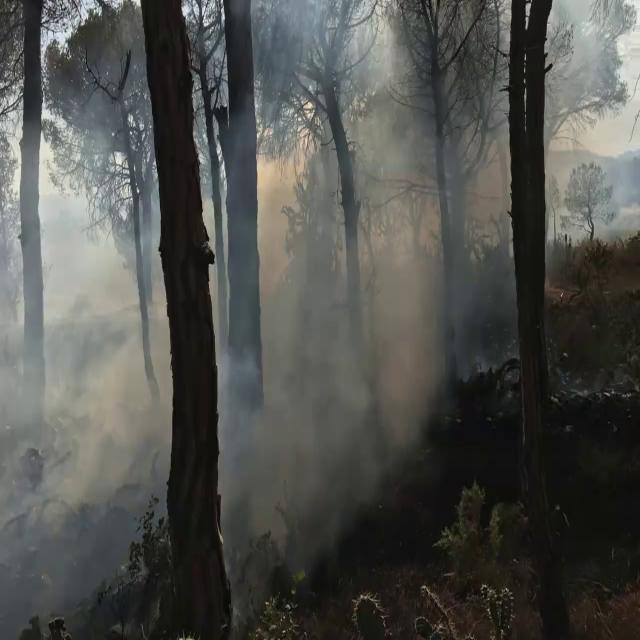Smoke: (212, 7, 510, 558), (0, 73, 163, 617)
